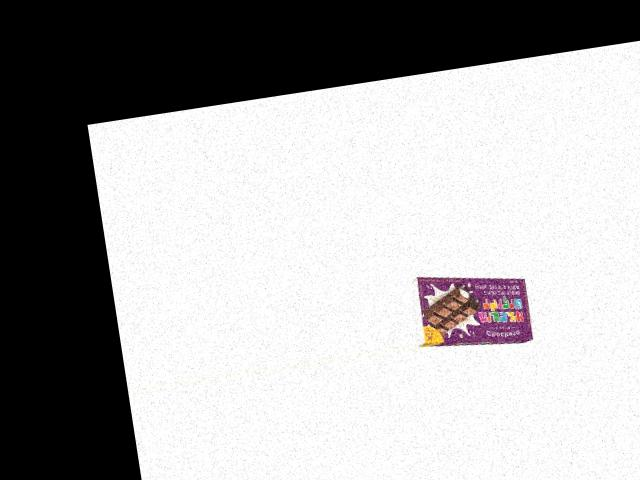chocolate: (407, 265, 542, 358)
